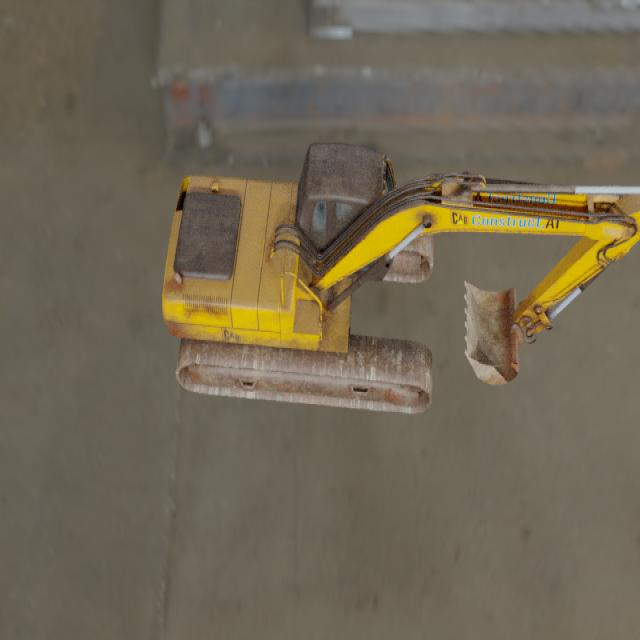excavator: (161, 141, 640, 415)
